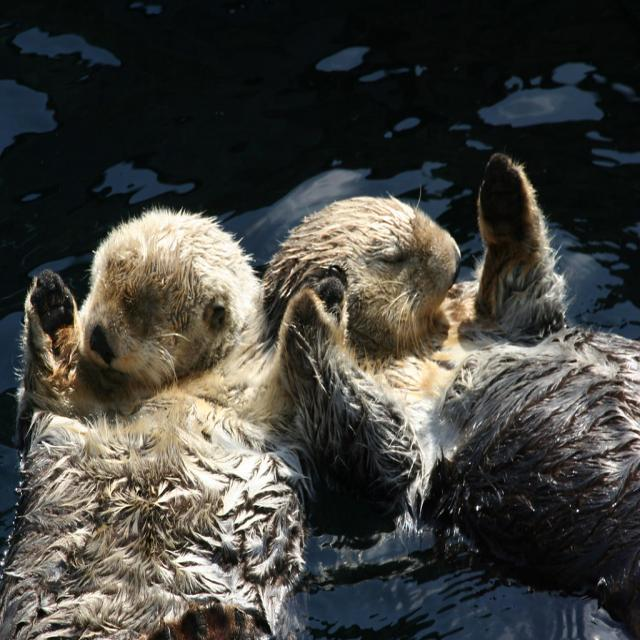otter: (267, 154, 640, 552), (1, 209, 305, 640)
